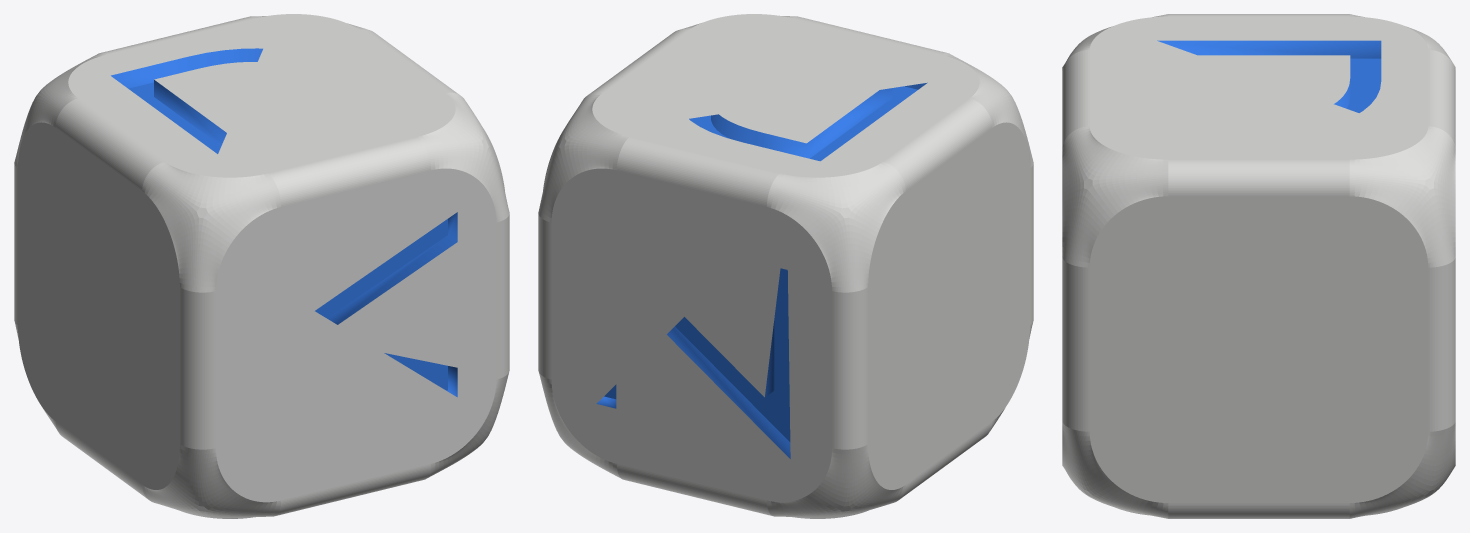
The model's file is BoggleDice.fbx_Die12.fbx.
The picture shows the model from 3 angles, left to right: view 1: azimuth 30°, elevation 25°; view 2: azimuth 150°, elevation 25°; view 3: azimuth 270°, elevation 25°; orthographic projection. The views are drawn at different scales.
Visible parts, largest first — view 1: Die12; view 2: Die12; view 3: Die12.
Part boxes in pixels (x1=…): Die12: x1=14, y1=14, x2=509, y2=518; Die12: x1=538, y1=14, x2=1033, y2=518; Die12: x1=1062, y1=14, x2=1455, y2=518.
Size of the model in its own units: 200 by 200 by 200.
